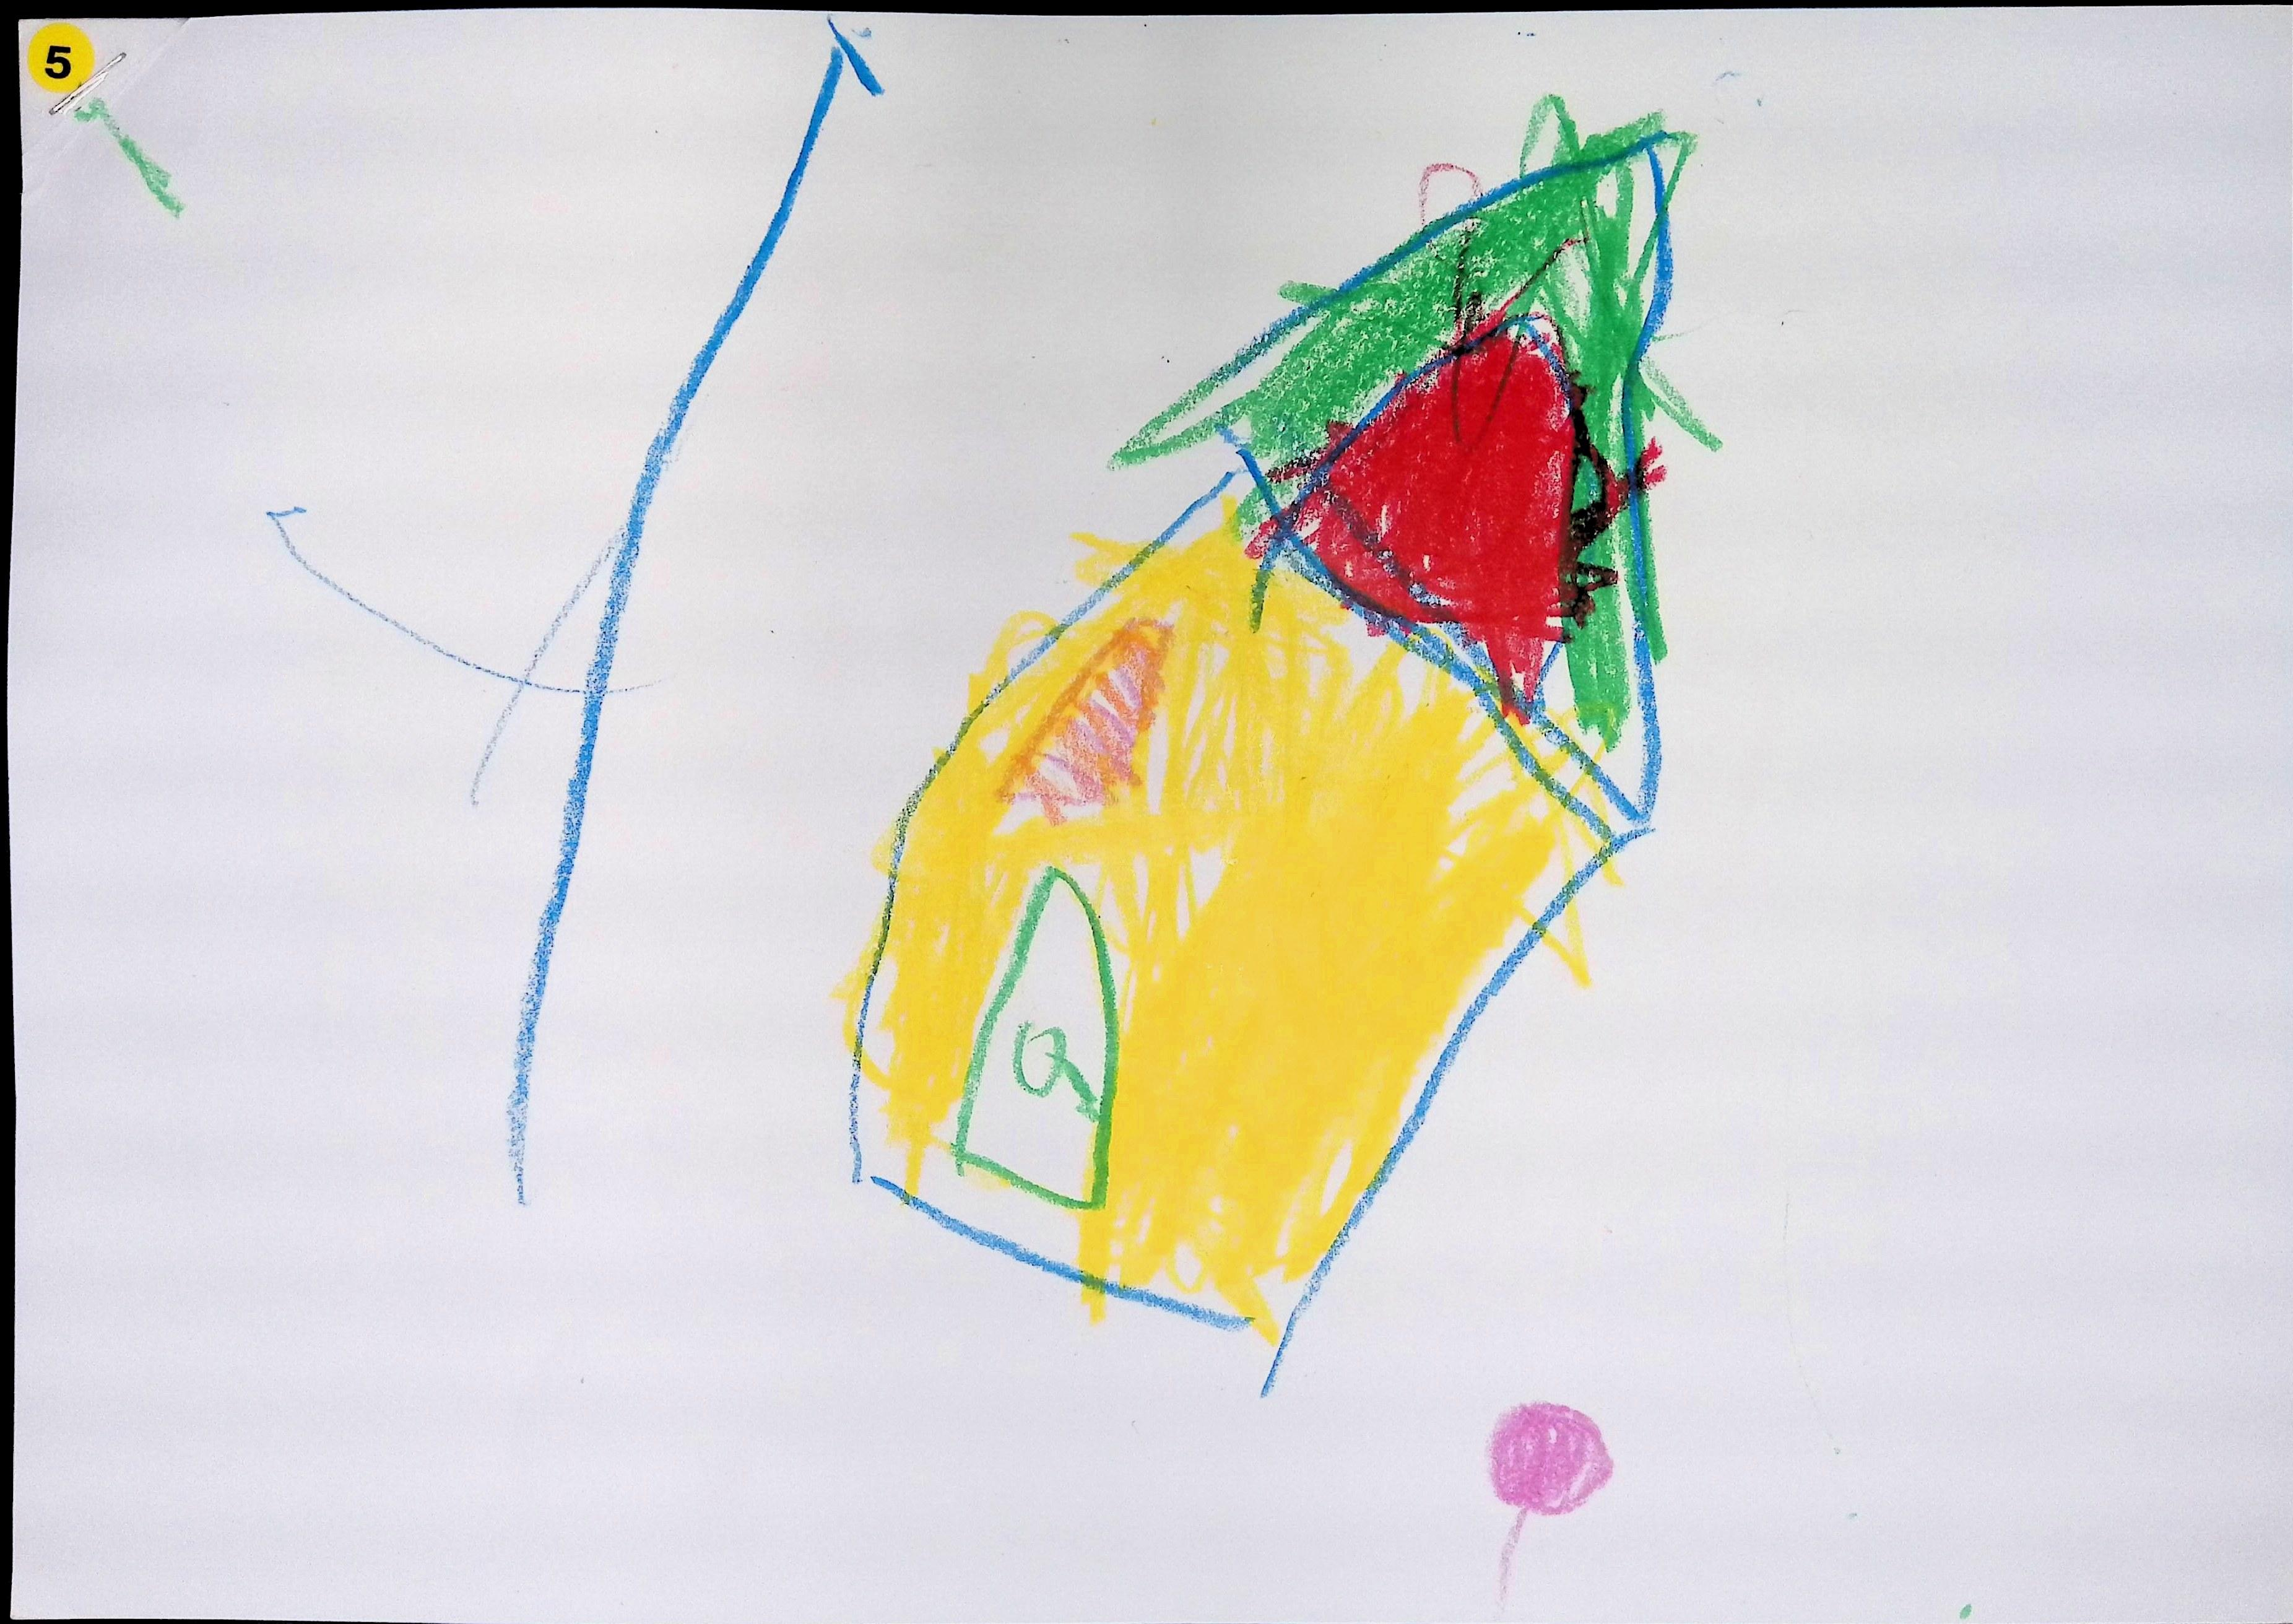door: (959, 870, 1126, 1204)
house: (842, 125, 1683, 1362)
roof: (1172, 135, 1683, 847)
wall: (854, 459, 1618, 1334)
window: (998, 613, 1172, 803)
